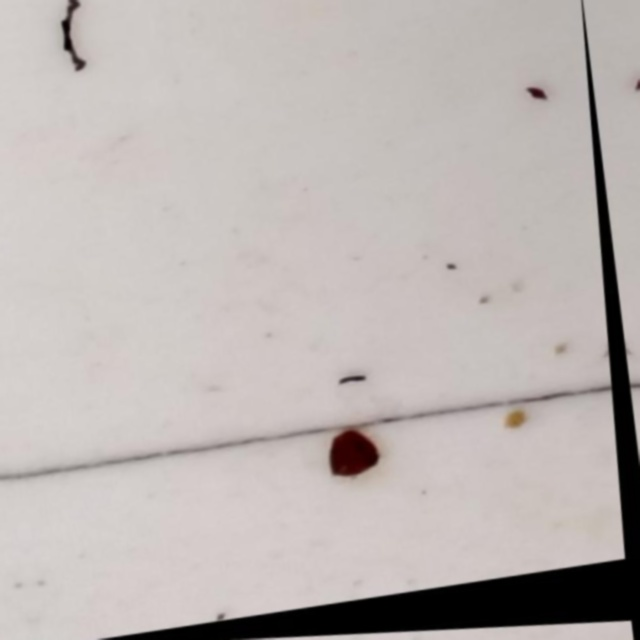varroa: (325, 431, 385, 485)
